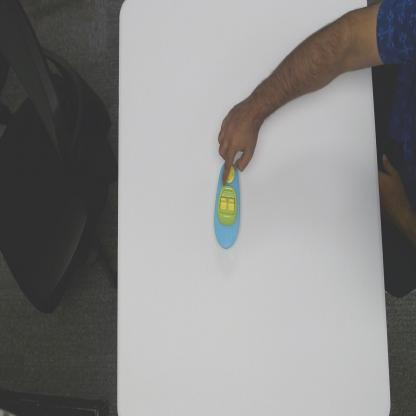Arm: (255, 10, 371, 106)
Boat: (213, 159, 242, 249)
Hand: (218, 93, 261, 187)
